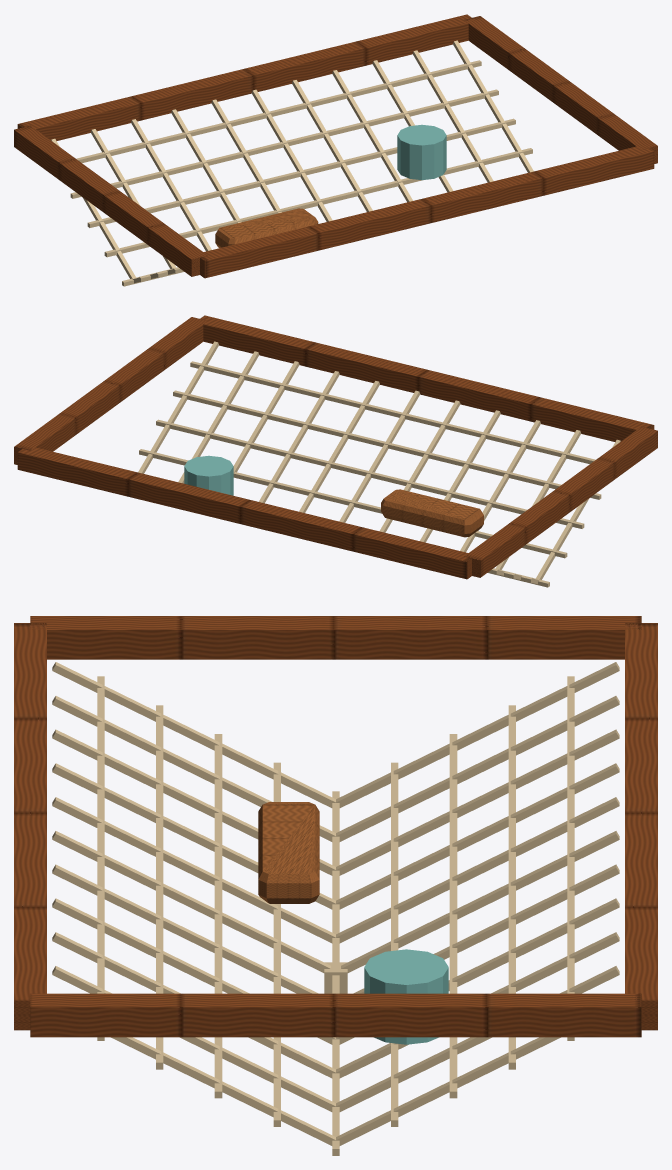
File: ocean-raft-settlement-ocean-raft-settlement-debris-col-67036fbb__28912.glb
3 views of the same model, one above another, from view 1: azimuth 30°, elevation 25°; view 2: azimuth 150°, elevation 25°; view 3: azimuth 270°, elevation 25° (orthographic). The views are drawn at different scales.
Parts seen in each view (by area): view 1: wood, rope, teal, pale; view 2: wood, rope, pale, teal; view 3: wood, rope, pale, teal.
Part boxes in pixels (x1,y1,x2,y2): wood: (14,14,657,278); rope: (51,40,533,286); teal: (397,124,446,180); pale: (215,208,318,247); wood: (14,315,657,579); rope: (138,341,620,587); pale: (381,489,483,537); teal: (184,455,233,495); wood: (14,616,657,1037); rope: (52,662,619,1155); pale: (258,802,319,903); teal: (364,949,448,1044).
Size of the model in its own units: 1.97 by 0.415 by 1.37.
Materials: 4 (2 with a texture image).
